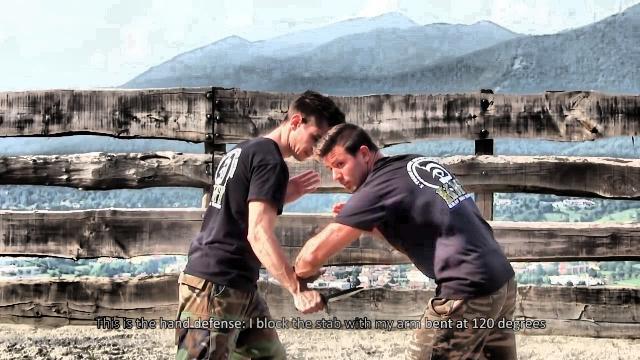knife: (294, 280, 371, 313)
